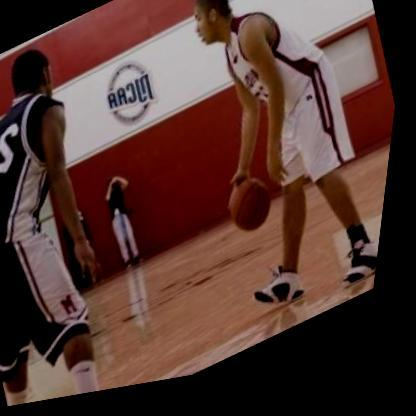basketball: (229, 178, 286, 245)
